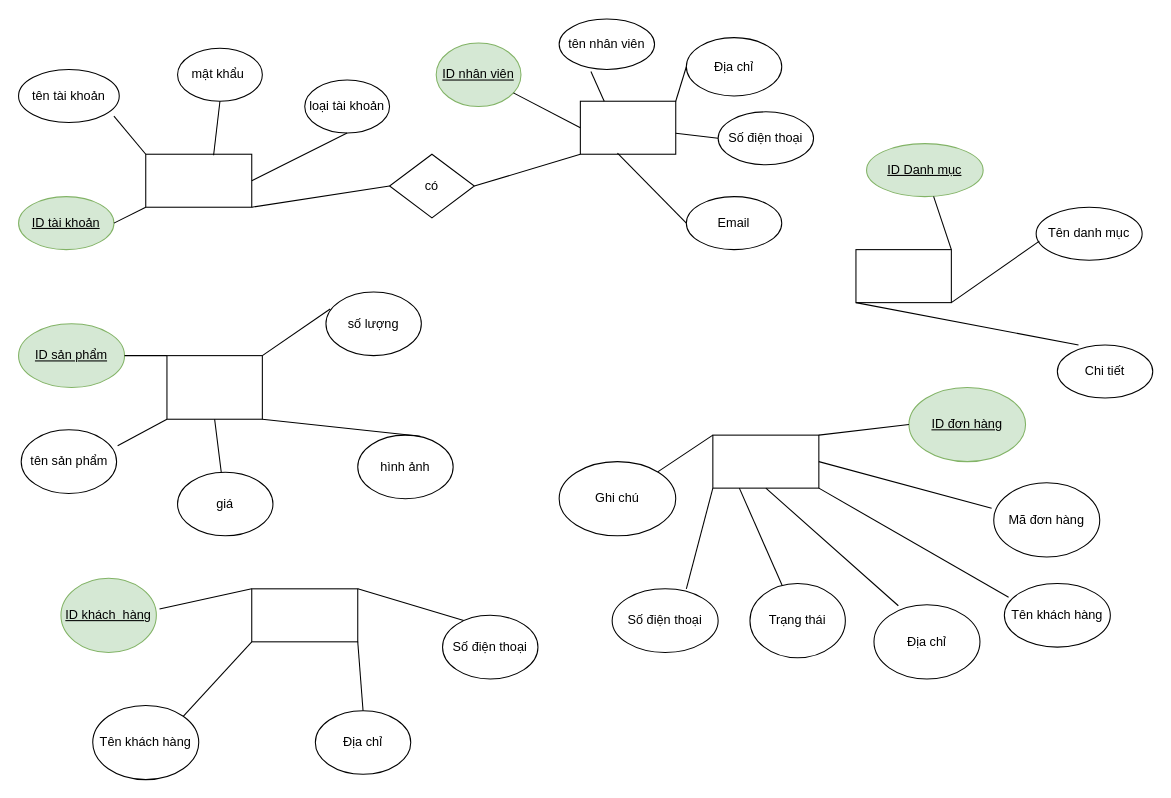
Some shapes in this 1171 by 798 pixel diagram are drawn without their labels. Each missing label, with the box of its shape:
Danh mục: (855, 249, 951, 303)
Khách hàng: (251, 588, 358, 642)
nhân viên: (579, 100, 676, 154)
Sản phẩm: (166, 355, 262, 419)
Tài khoản: (145, 153, 252, 207)
Đơn hàng: (712, 434, 819, 488)
